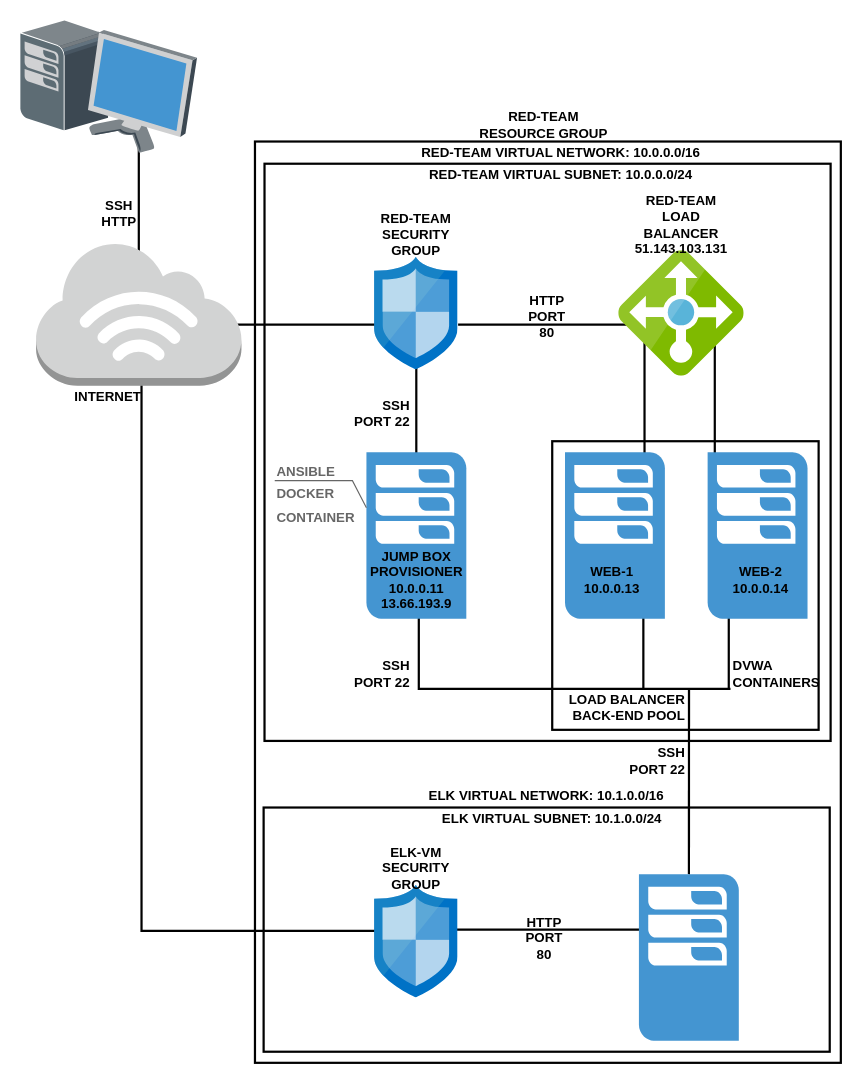
Image size: 861x1083. Some labels were removed from this diagram. Each missing label, with the centre of its shape:
ELK-VM 10.1.0.4: (x=688, y=957)
WORKSTATION: (x=107, y=85)
